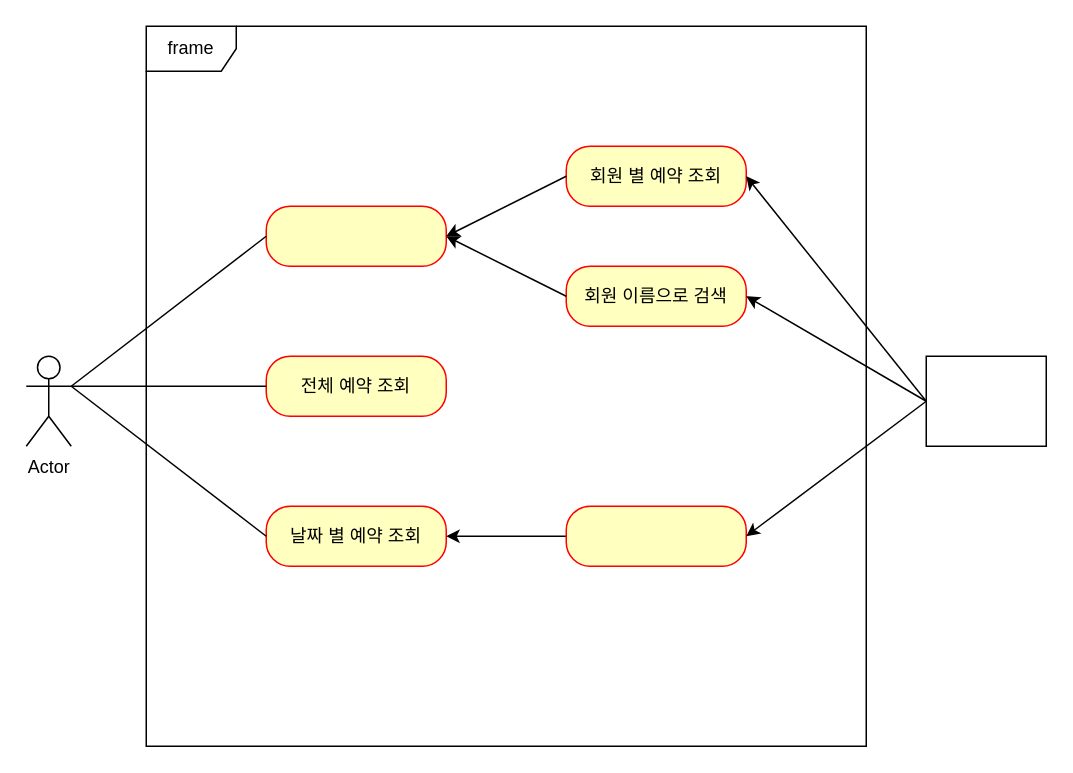
Image size: 1073x773. Some labels were removed from this diagram. Each missing label, with the box of its shape:
날짜 검색: (565, 505, 746, 566)
예약 앱 DB: (925, 355, 1046, 446)
회원 조회: (265, 205, 446, 266)
